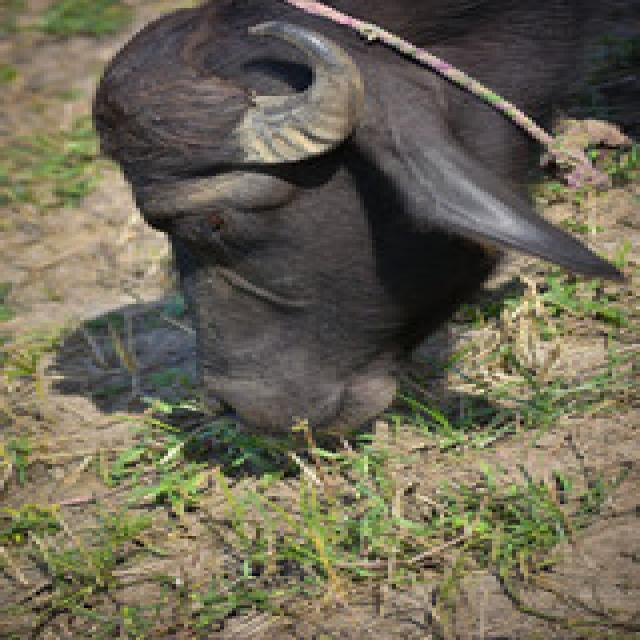Buffalo: (88, 0, 636, 448)
